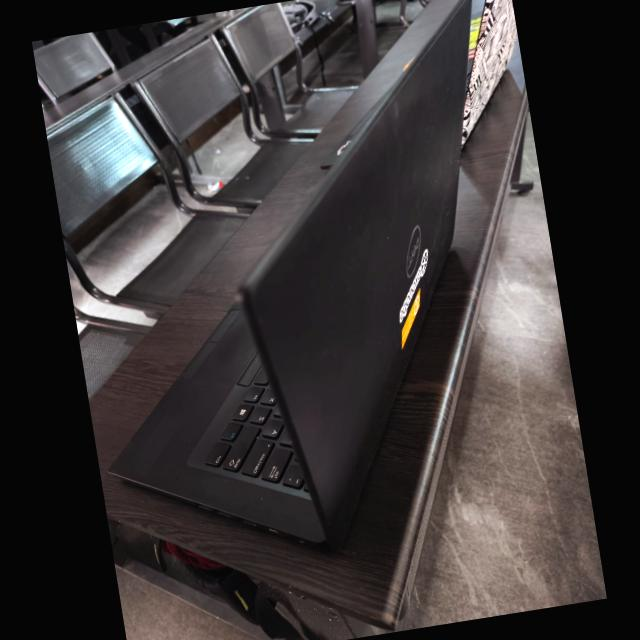laptop: (253, 368, 269, 385)
